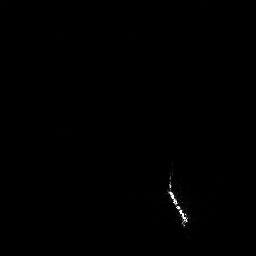ship: (165, 169, 192, 231)
